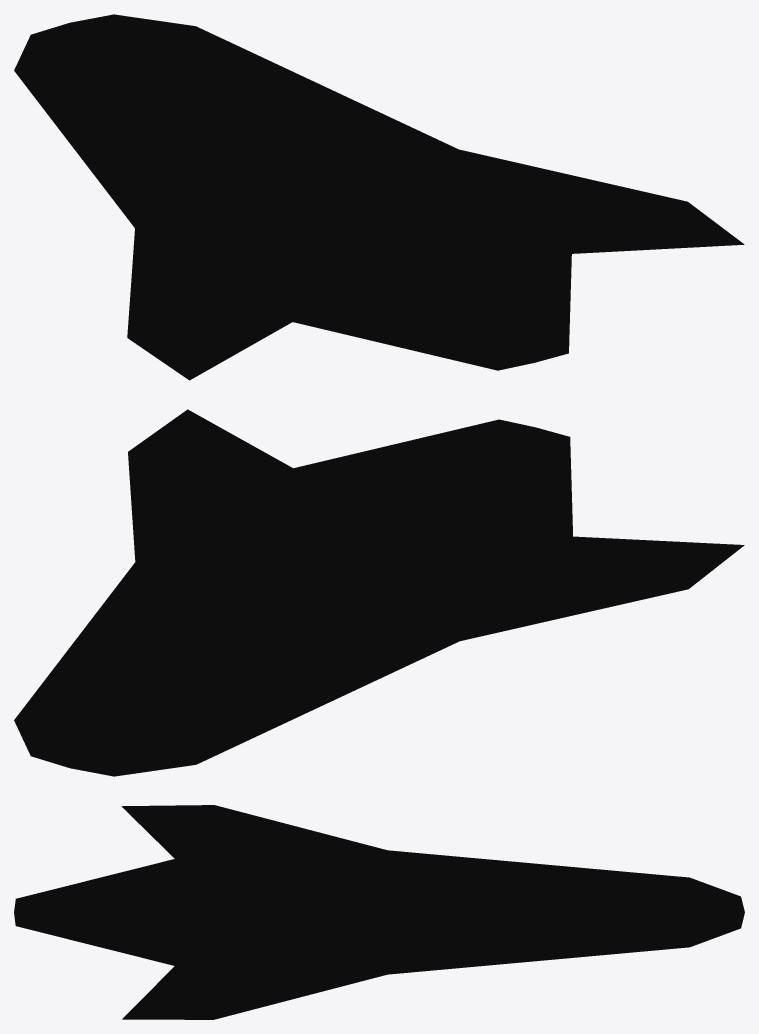
Rendered from crusio_shadow.FBX.
The picture shows the model from 3 angles, top to bottom: view 1: azimuth 30°, elevation 25°; view 2: azimuth 150°, elevation 25°; view 3: azimuth 270°, elevation 25°; orthographic projection. The views are drawn at different scales.
Parts seen in each view (by area): view 1: crusio_shadow; view 2: crusio_shadow; view 3: crusio_shadow.
Boxes of the visible parts, x1=… form: crusio_shadow: x1=14, y1=14, x2=744, y2=380; crusio_shadow: x1=14, y1=409, x2=744, y2=776; crusio_shadow: x1=14, y1=805, x2=744, y2=1019.
Size of the model in its own units: 15.23 by 1.34e-15 by 21.89.
Materials: 1 (1 with a texture image).
